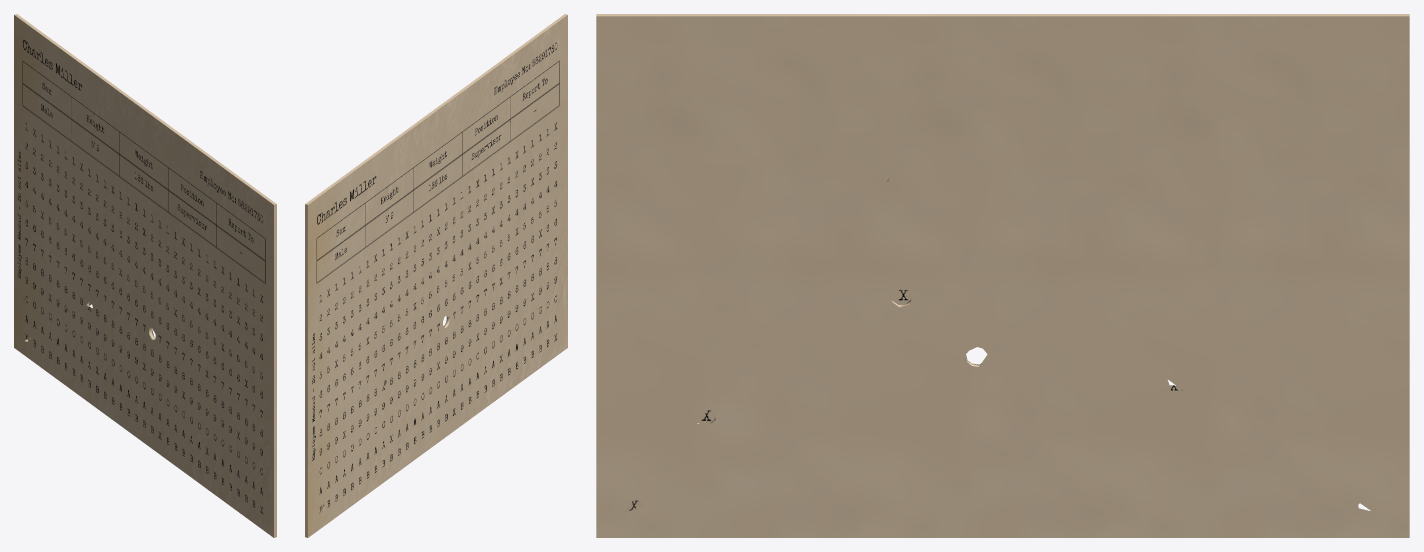
The model's file is employeeCard09Aadi.fbx.
3 views of the same model, side by side, from view 1: azimuth 30°, elevation 25°; view 2: azimuth 150°, elevation 25°; view 3: azimuth 270°, elevation 25° (orthographic). The views are drawn at different scales.
Visible parts, largest first — view 1: Employee 09 Card Puzzle Punched; view 2: Employee 09 Card Puzzle Punched; view 3: Employee 09 Card Puzzle Punched.
Part boxes in pixels (<box>): Employee 09 Card Puzzle Punched: <box>14,14,276,537</box>; Employee 09 Card Puzzle Punched: <box>305,14,567,537</box>; Employee 09 Card Puzzle Punched: <box>596,14,1409,537</box>.
Bounding box in the file's own units: 0.9779 × 100 × 141.
1 material, 1 textured.
